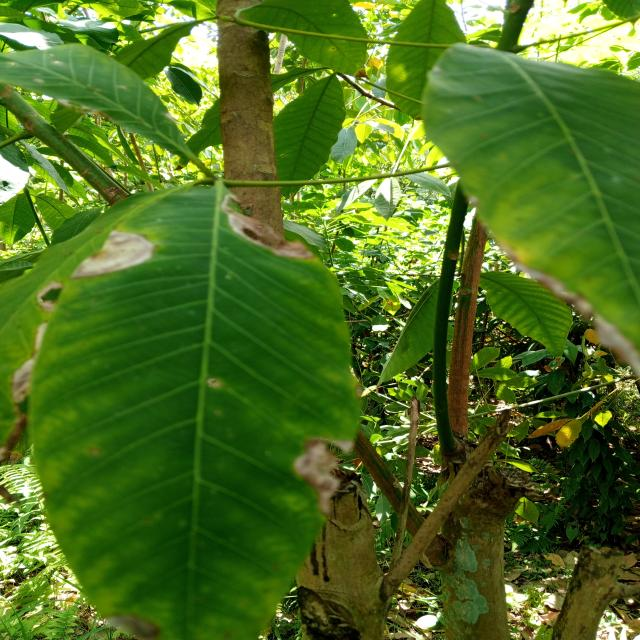Leaf-Blight: (221, 194, 316, 260), (292, 436, 354, 516), (71, 229, 157, 277)
